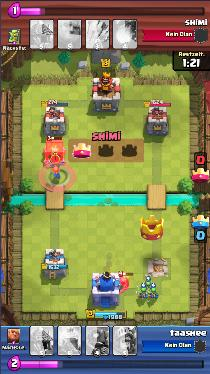ally_goblin_cage: (42, 138, 67, 165)
ally_valkyrie: (49, 166, 61, 180)
enemy_mini_pekka: (119, 274, 130, 294)
enemy_spear_goblin: (148, 287, 159, 301), (137, 286, 146, 298), (145, 279, 152, 291)
